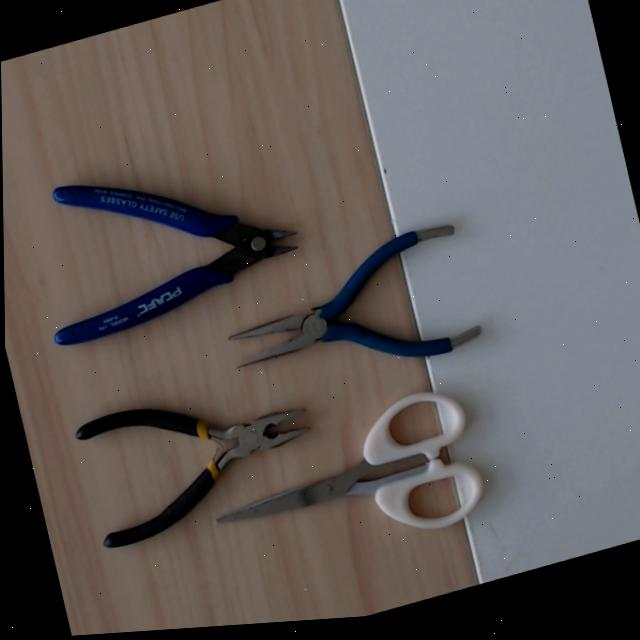Gunting: (212, 392, 483, 532)
Tang-Jepit-Biru: (211, 220, 483, 405)
Tang-Jepit-Hitam: (64, 357, 326, 553)
Tang-Potong-Biru: (46, 185, 298, 351)
